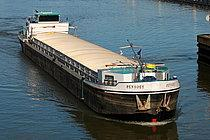Ship: (13, 5, 190, 140)
